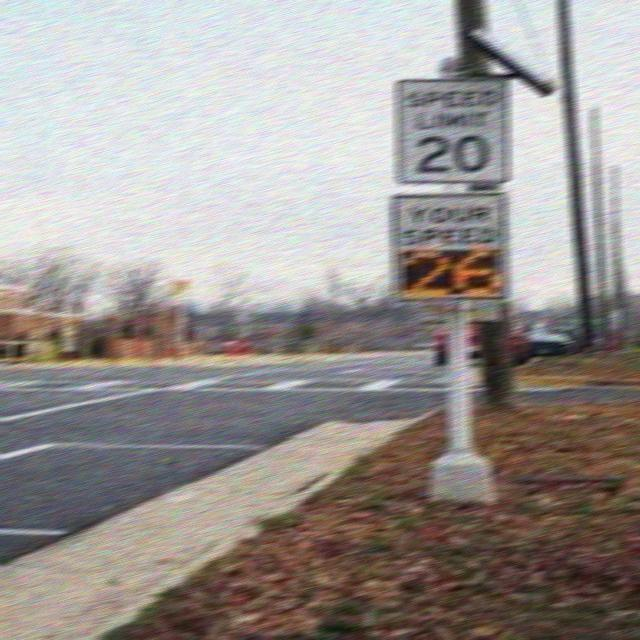speedLimit20: (384, 69, 510, 195)
